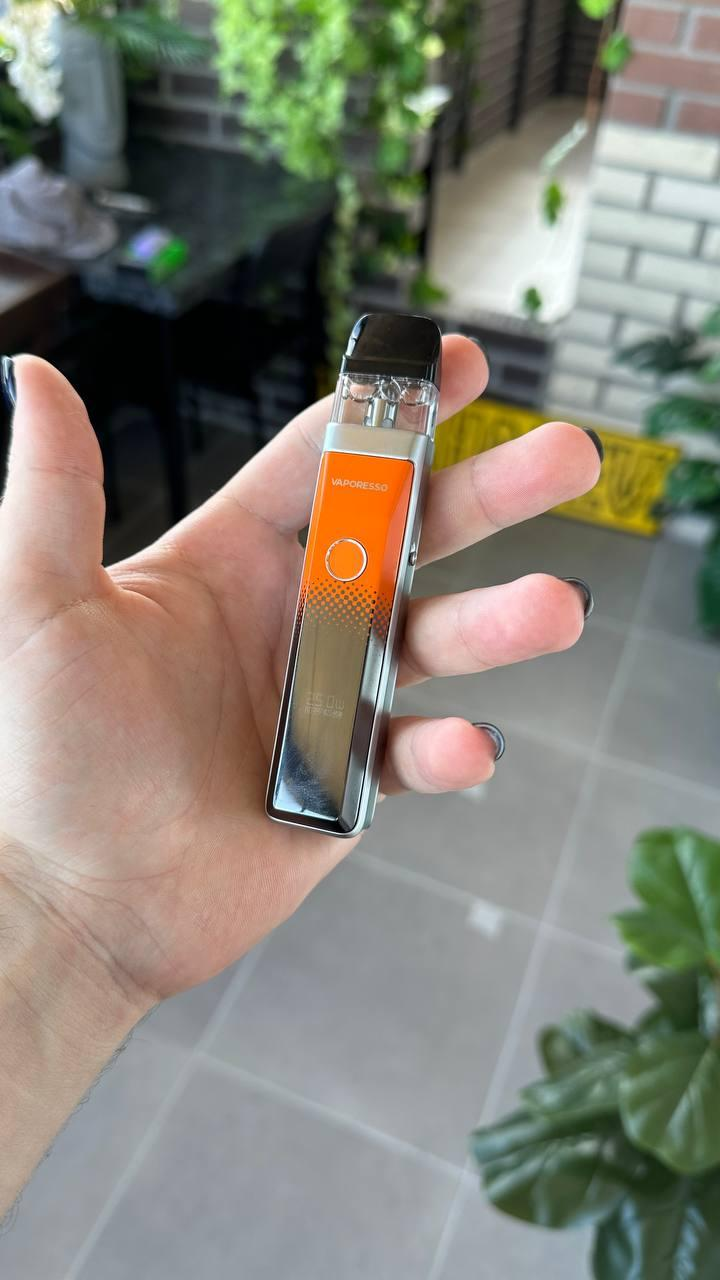Vape: (266, 312, 441, 837)
